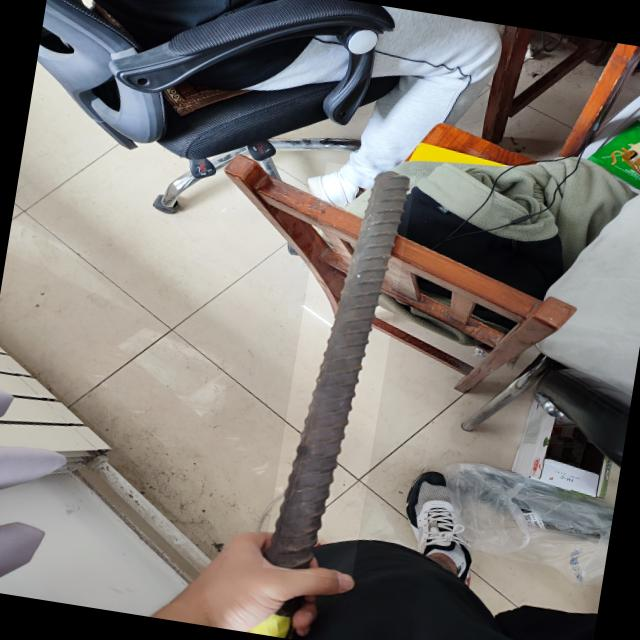ribbed bar: (262, 162, 416, 581)
